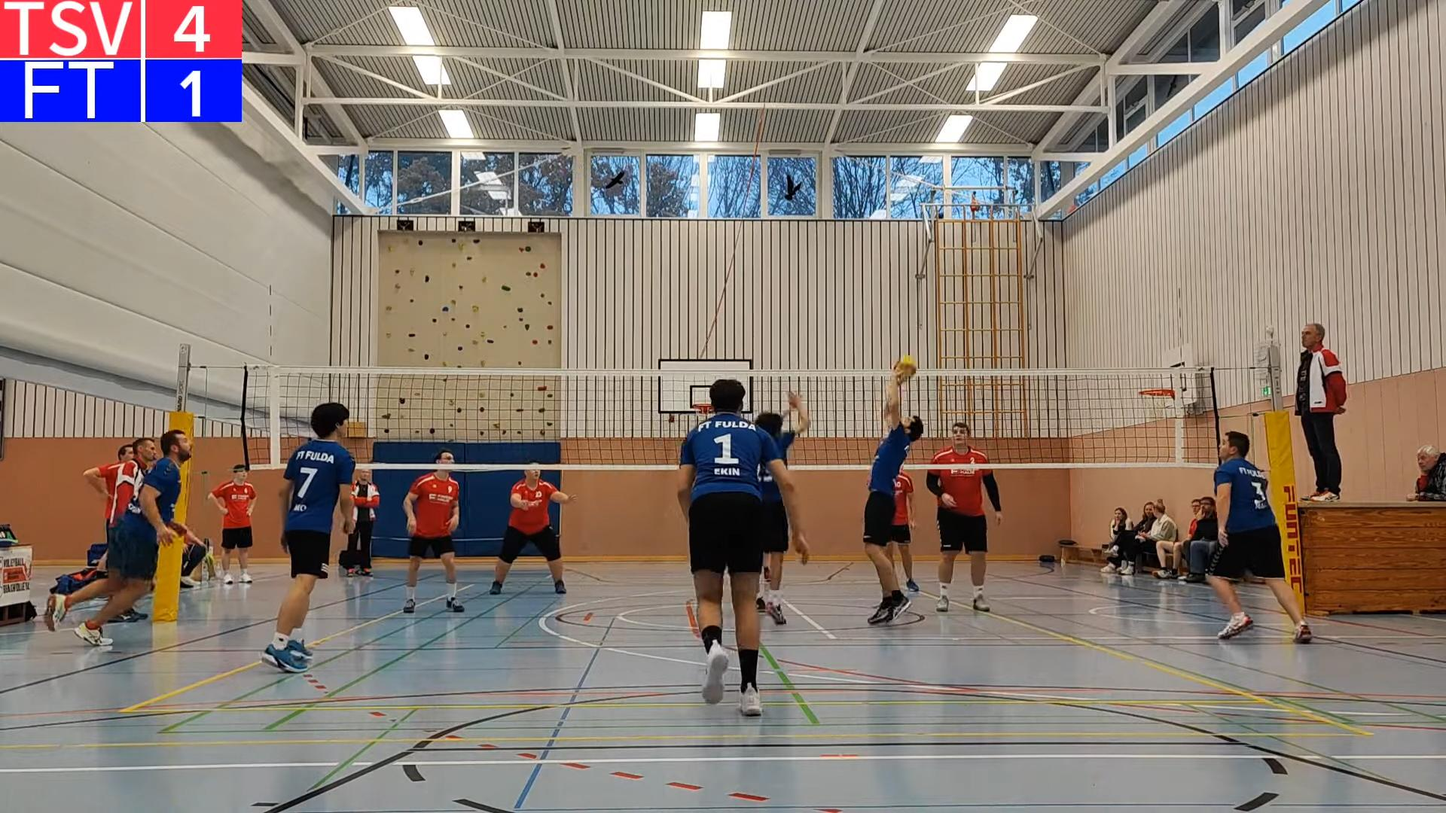alzata: (856, 406, 916, 617)
